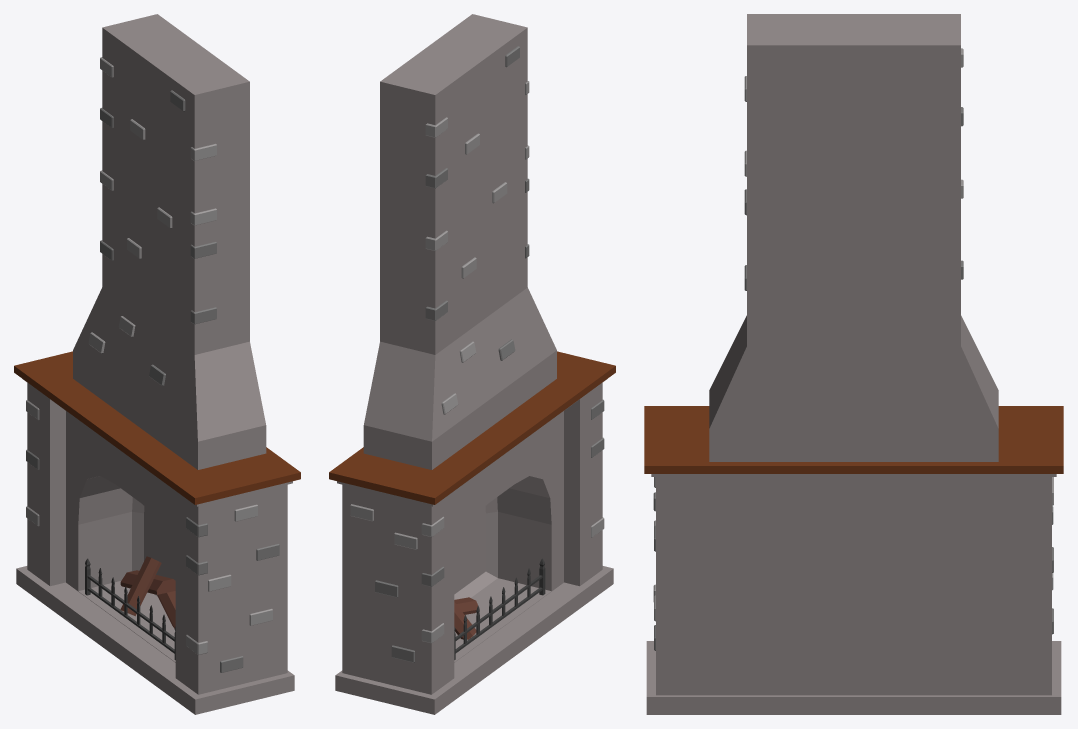
The model's file is FirePlace.fbx.
The picture shows the model from 3 angles, left to right: view 1: azimuth 30°, elevation 25°; view 2: azimuth 150°, elevation 25°; view 3: azimuth 270°, elevation 25°; orthographic projection. The views are drawn at different scales.
Parts seen in each view (by area): view 1: Firepalce; view 2: Firepalce; view 3: Firepalce.
Part boxes in pixels (x1=…): Firepalce: x1=14, y1=14, x2=300, y2=714; Firepalce: x1=329, y1=14, x2=615, y2=714; Firepalce: x1=644, y1=14, x2=1063, y2=714.
Size of the model in its own units: 72.06 by 376 by 213.
